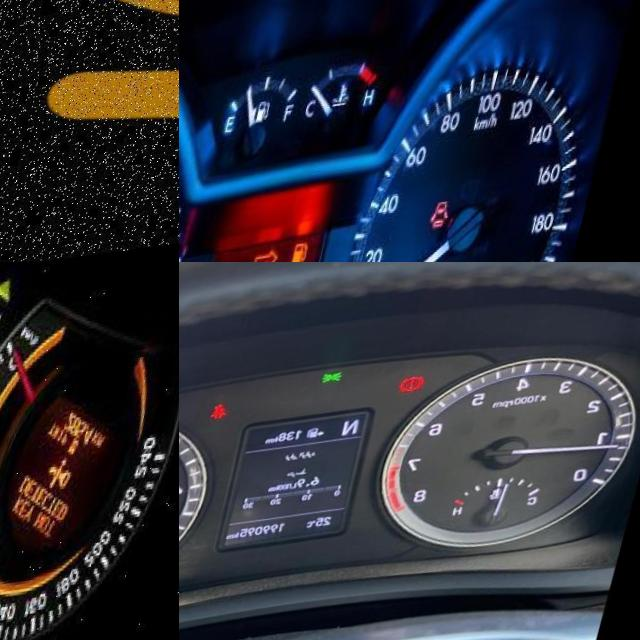Electronic Power Steering: (0, 0, 179, 211)
Seat Belt: (224, 407, 241, 426)
